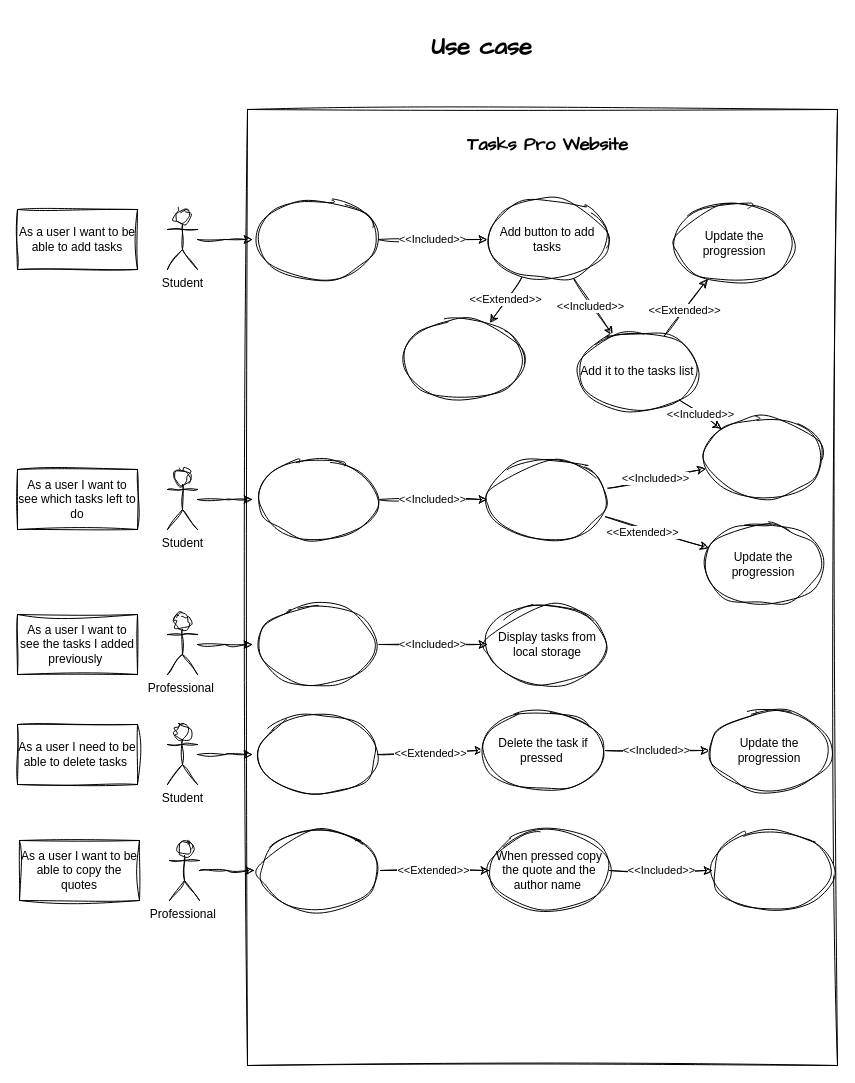
The diagram is 855 pixels wide and 1083 high, and some of its shapes have lost their labels. The centre of each missing label's shape, as x and y in pixels:
"Add the quote to the user's clipboard" belongs at point (772, 870).
"Completed tasks are marked as done" belongs at point (547, 499).
"Copy button on the quote section" belongs at point (319, 870).
"Delete button with all the task" belongs at point (317, 754).
"If Input box empty show a warning message" belongs at point (464, 359).
"Input box to type in task" belongs at point (317, 239).
"Load Index Page" belongs at point (317, 644).
"Save to Local Storage" belongs at point (763, 457).
"tasks listed in a dashboard" belongs at point (317, 499).
